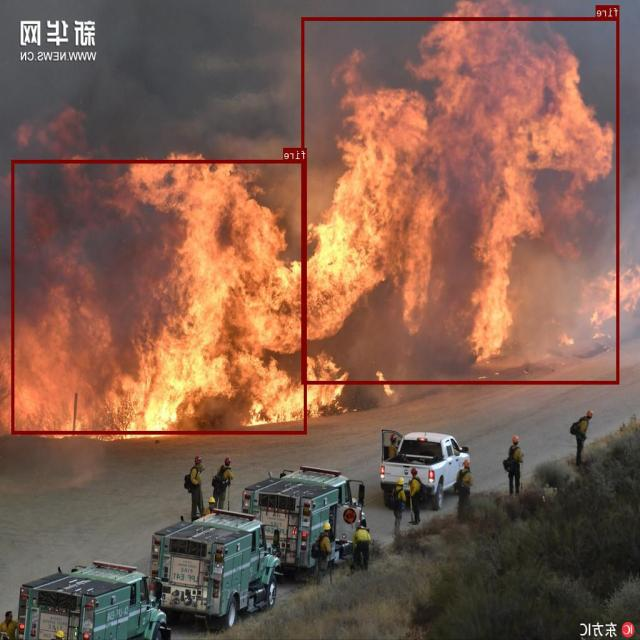fire: (302, 17, 620, 383), (12, 159, 308, 434)
